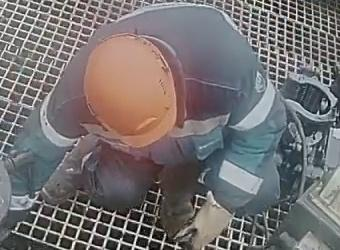gloves: (172, 190, 236, 250)
helmet: (83, 32, 178, 149)
vest: (39, 2, 265, 167)
